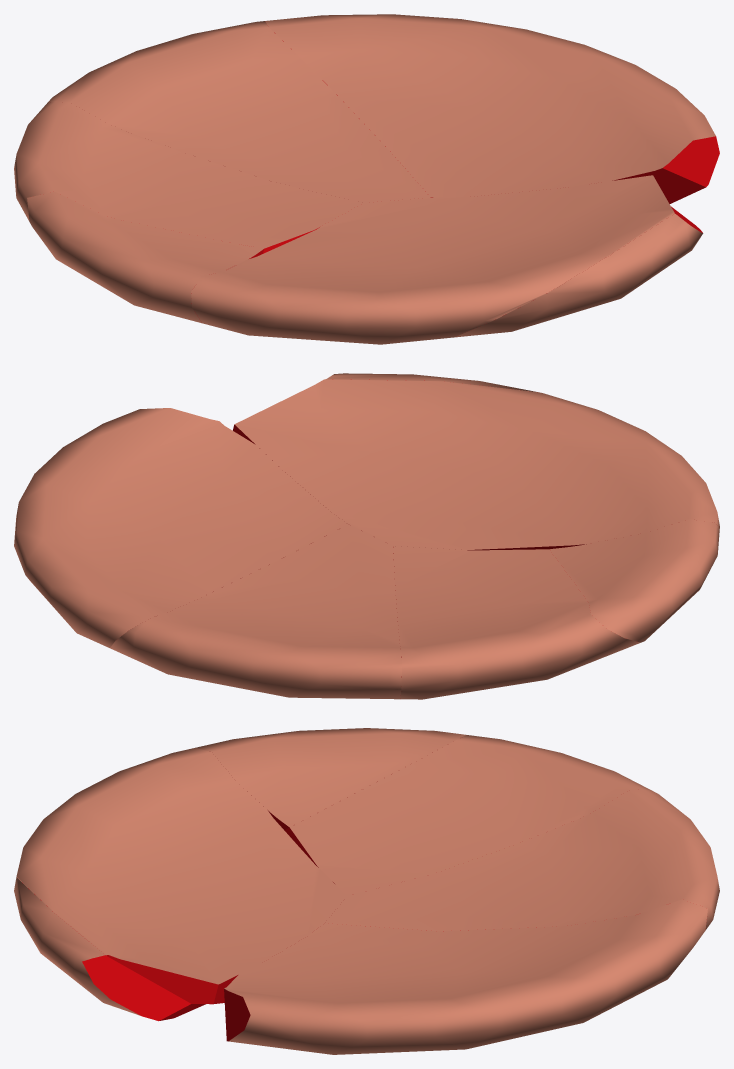
Rendered from ClayDish_03_destroyed 1.fbx.
The picture shows the model from 3 angles, top to bottom: view 1: azimuth 30°, elevation 25°; view 2: azimuth 150°, elevation 25°; view 3: azimuth 270°, elevation 25°; orthographic projection.
Parts seen in each view (by area): view 1: ClayDish_03_cell.005, ClayDish_03_cell.007, ClayDish_03_cell.004, ClayDish_03_cell.006, ClayDish_03_cell.008, ClayDish_03_cell; view 2: ClayDish_03_cell.007, ClayDish_03_cell.005, ClayDish_03_cell.004, ClayDish_03_cell.006, ClayDish_03_cell.008, ClayDish_03_cell; view 3: ClayDish_03_cell.007, ClayDish_03_cell.005, ClayDish_03_cell.004, ClayDish_03_cell.006, ClayDish_03_cell.008, ClayDish_03_cell.
Part boxes in pixels (bbox=[...]): ClayDish_03_cell.005: bbox=[265, 14, 719, 203]; ClayDish_03_cell.007: bbox=[191, 175, 674, 344]; ClayDish_03_cell.004: bbox=[48, 21, 430, 202]; ClayDish_03_cell.006: bbox=[14, 102, 362, 253]; ClayDish_03_cell.008: bbox=[27, 191, 263, 323]; ClayDish_03_cell: bbox=[455, 206, 703, 337]; ClayDish_03_cell.007: bbox=[233, 379, 719, 550]; ClayDish_03_cell.005: bbox=[14, 408, 348, 647]; ClayDish_03_cell.004: bbox=[110, 524, 401, 699]; ClayDish_03_cell.006: bbox=[393, 546, 640, 699]; ClayDish_03_cell.008: bbox=[549, 519, 719, 642]; ClayDish_03_cell: bbox=[327, 373, 537, 392]; ClayDish_03_cell.007: bbox=[16, 748, 346, 1004]; ClayDish_03_cell.005: bbox=[224, 899, 707, 1054]; ClayDish_03_cell.004: bbox=[325, 789, 719, 931]; ClayDish_03_cell.006: bbox=[284, 735, 649, 895]; ClayDish_03_cell.008: bbox=[195, 728, 465, 830]; ClayDish_03_cell: bbox=[14, 877, 205, 1021].
Bounding box in the file's own units: 31.25 × 4 × 31.25.
